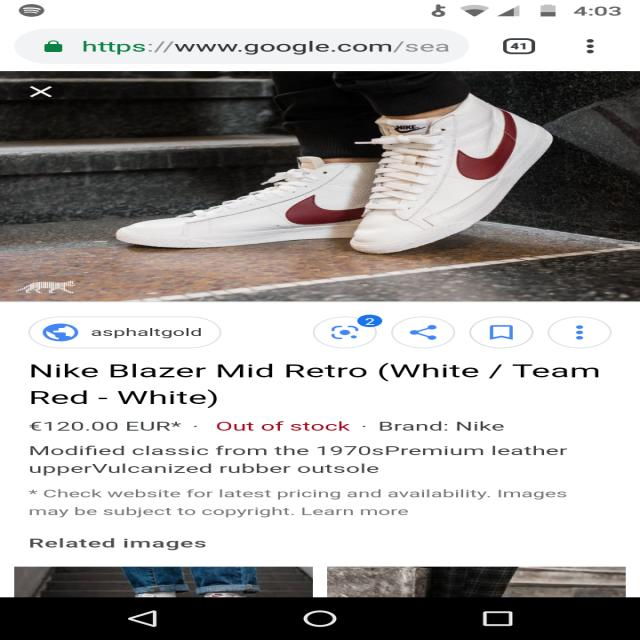shoe: (319, 90, 572, 264), (92, 146, 408, 260)
